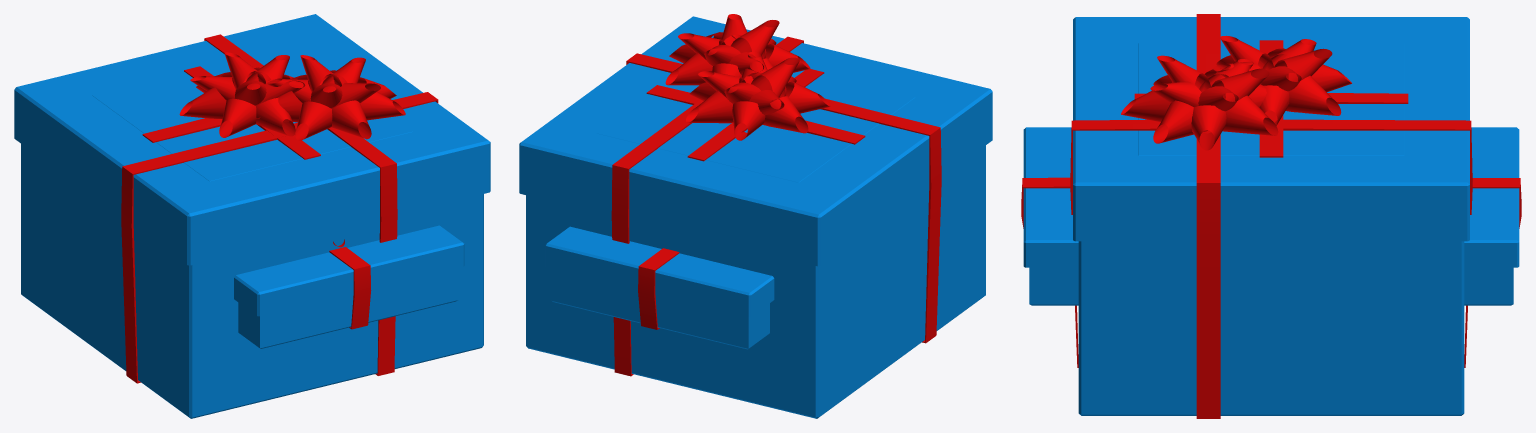
Rendered from gifts.fbx.
3 views of the same model, side by side, from view 1: azimuth 30°, elevation 25°; view 2: azimuth 150°, elevation 25°; view 3: azimuth 270°, elevation 25° (orthographic). The views are drawn at different scales.
Parts seen in each view (by area): view 1: box (×3), bow (×2), ribbon (×3); view 2: box (×3), ribbon (×3), bow (×2); view 3: box (×3), ribbon (×3), bow (×2).
Part boxes in pixels (x1,y1,x2,y2): box (×3): [14, 14, 490, 418]; bow (×2): [179, 52, 405, 140]; ribbon (×3): [121, 34, 438, 383]; box (×3): [519, 16, 992, 418]; ribbon (×3): [611, 36, 941, 376]; bow (×2): [665, 14, 830, 140]; box (×3): [1023, 17, 1519, 415]; ribbon (×3): [1021, 14, 1521, 418]; bow (×2): [1121, 35, 1351, 150].
Size of the model in its own units: 1.55 by 1.26 by 1.93.
